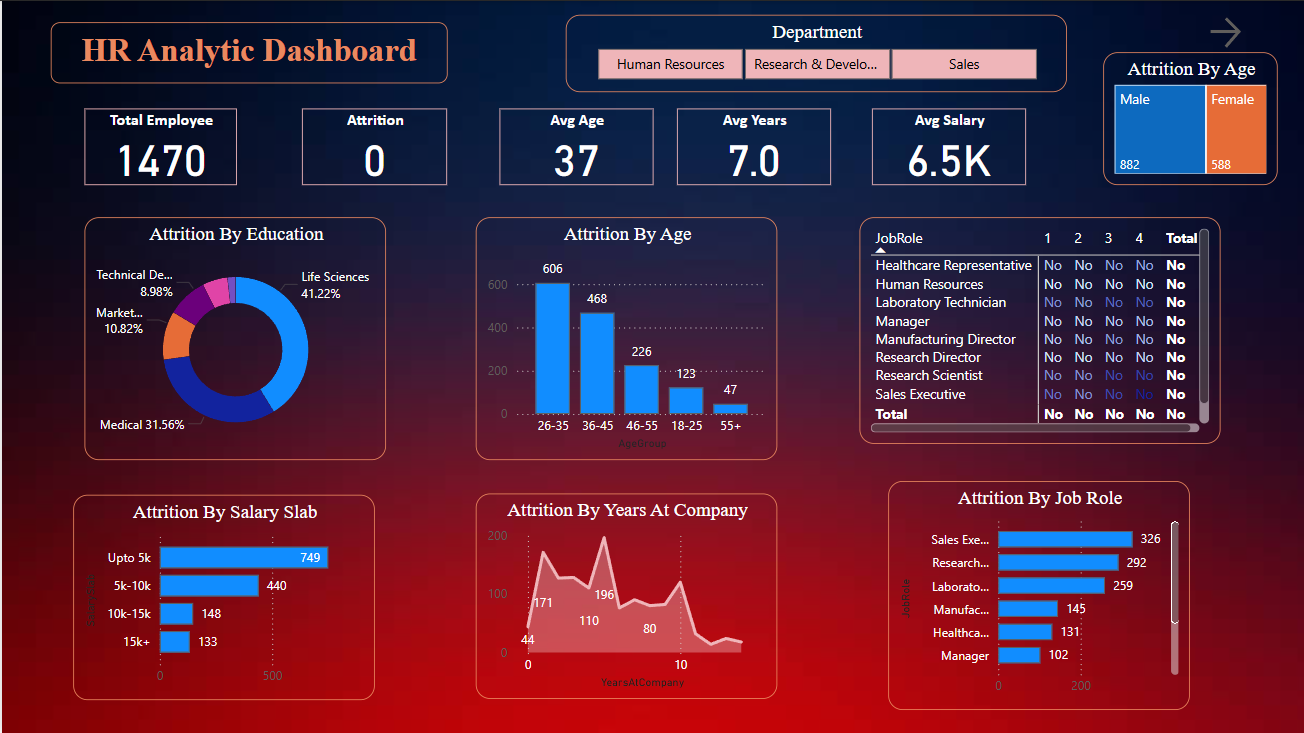

This screenshot's page, from the dashboard's own definition file:
{"tool":"powerbi","page":{"name":"Page 1","canvas":[1280,720],"ordinal":0},"visuals":[{"type":"card","title":"Total Employee","fields":{"Values":["Count(HR_Analytics.EmpID)"]},"box":[81,105.7,149.6,75.5],"z":0},{"type":"card","title":"Attrition","fields":{"Values":["Min(HR_Analytics.Attrition count)"]},"box":[295,105.7,142.7,75.5],"z":1000},{"type":"card","title":"Avg Age","fields":{"Values":["Avg(HR_Analytics.Age)"]},"box":[488.5,105.7,150.9,75.5],"z":2000},{"type":"card","title":"Avg Years","fields":{"Values":["Avg(HR_Analytics.YearsAtCompany)"]},"box":[662.8,105.7,150.9,75.5],"z":3000},{"type":"card","title":"Avg Salary","fields":{"Values":["Avg(HR_Analytics.MonthlyIncome)"]},"box":[853.5,105.7,150.9,75.5],"z":4000},{"type":"donutChart","title":"Attrition By Education","fields":{"Category":["HR_Analytics.EducationField"],"Y":["CountNonNull(HR_Analytics.Attrition count)"]},"box":[81,212.7,296.4,238.8],"z":5000},{"type":"columnChart","title":"Attrition By Age","fields":{"Y":["CountNonNull(HR_Analytics.Attrition count)"],"Category":["HR_Analytics.AgeGroup"]},"box":[465.2,212.7,296.4,238.8],"z":6000},{"type":"pivotTable","fields":{"Rows":["HR_Analytics.JobRole"],"Columns":["HR_Analytics.JobSatisfaction"],"Values":["Min(HR_Analytics.Attrition)"]},"box":[841.2,212.7,354,222.3],"z":7000},{"type":"barChart","title":"Attrition By Salary Slab","fields":{"Category":["HR_Analytics.SalarySlab"],"Y":["CountNonNull(HR_Analytics.Attrition count)"]},"box":[70,484.4,296.4,201.7],"z":8000},{"type":"barChart","title":"Attrition By Job Role","fields":{"Y":["CountNonNull(HR_Analytics.Attrition count)"],"Category":["HR_Analytics.JobRole"]},"box":[870,470.7,296.4,225],"z":9000},{"type":"stackedAreaChart","title":"Attrition By Years At Company","fields":{"Category":["HR_Analytics.YearsAtCompany"],"Y":["CountNonNull(HR_Analytics.Attrition count)"]},"box":[465.2,483,296.4,201.7],"z":10000},{"type":"treemap","title":"Attrition By Age","fields":{"Values":["CountNonNull(HR_Analytics.Attrition count)"],"Group":["HR_Analytics.Gender"]},"box":[1081.3,50.8,171.5,130.4],"z":11000},{"type":"slicer","title":"Department","fields":{"Values":["HR_Analytics.Department"]},"box":[553.4,13.5,492,76.1],"z":12000},{"type":"textbox","box":[48,20.6,389.7,60.4],"z":13000},{"type":"actionButton","box":[1180.1,11,100.2,39.8],"z":14000}]}

Visuals, with their boxes in screenshot pixels (x1, y1, x2, y2), scaled from the page's 1280x720 canvas onto the 1304x733 screenshot:
"Total Employee" card: 83, 108, 235, 184
"Attrition" card: 301, 108, 446, 184
"Avg Age" card: 498, 108, 651, 184
"Avg Years" card: 675, 108, 829, 184
"Avg Salary" card: 870, 108, 1023, 184
"Attrition By Education" donutChart: 83, 217, 384, 460
"Attrition By Age" columnChart: 474, 217, 776, 460
pivotTable - HR_Analytics.JobRole x HR_Analytics.JobSatisfaction: 857, 217, 1218, 443
"Attrition By Salary Slab" barChart: 71, 493, 373, 698
"Attrition By Job Role" barChart: 886, 479, 1188, 708
"Attrition By Years At Company" stackedAreaChart: 474, 492, 776, 697
"Attrition By Age" treemap: 1102, 52, 1276, 184
"Department" slicer: 564, 14, 1065, 91
textbox: 49, 21, 446, 82
actionButton: 1202, 11, 1303, 52
